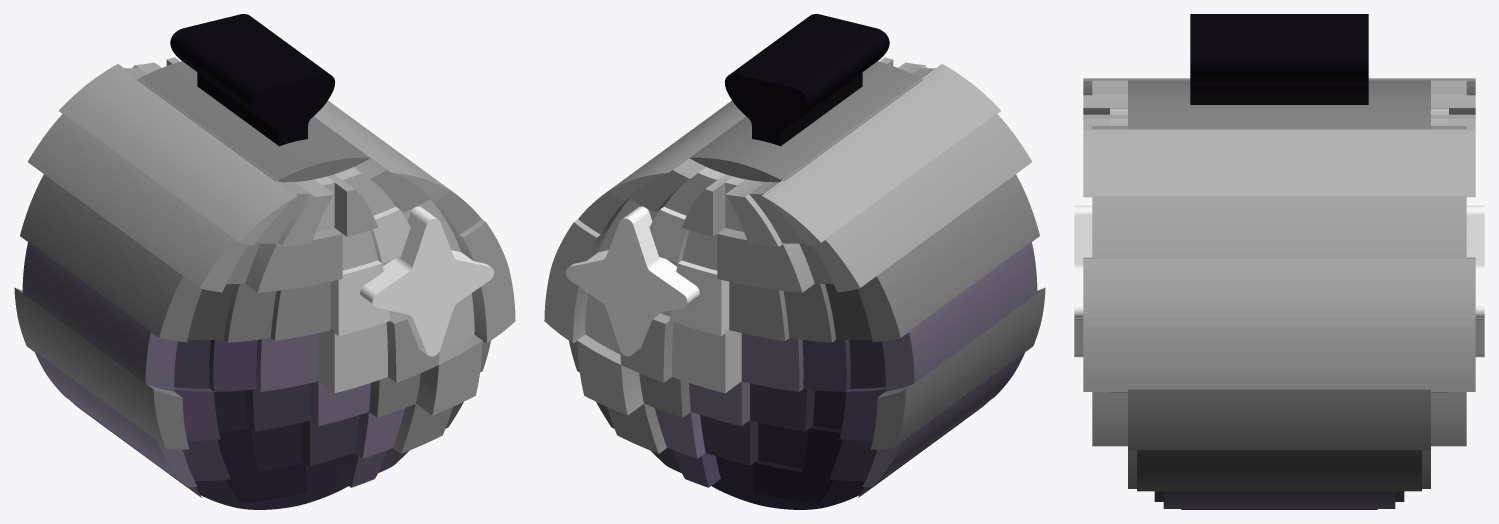
The model's file is U+1FAA9.obj.
3 views of the same model, side by side, from view 1: azimuth 30°, elevation 25°; view 2: azimuth 150°, elevation 25°; view 3: azimuth 270°, elevation 25° (orthographic). The views are drawn at different scales.
Visible parts, largest first — view 1: U+1FAA9_layer07_obj00, U+1FAA9_layer11_obj00, U+1FAA9_layer12_obj00, U+1FAA9_layer05_obj00, U+1FAA9_layer00_obj00, U+1FAA9_layer13_obj00, U+1FAA9_layer09_obj00, U+1FAA9_layer03_obj00, U+1FAA9_layer01_obj00, U+1FAA9_layer04_obj00, U+1FAA9_layer10_obj00, U+1FAA9_layer02_obj00 (+2 smaller); view 2: U+1FAA9_layer07_obj00, U+1FAA9_layer11_obj00, U+1FAA9_layer12_obj00, U+1FAA9_layer05_obj00, U+1FAA9_layer00_obj00, U+1FAA9_layer13_obj00, U+1FAA9_layer09_obj00, U+1FAA9_layer03_obj00, U+1FAA9_layer01_obj00, U+1FAA9_layer04_obj00, U+1FAA9_layer10_obj00, U+1FAA9_layer02_obj00 (+2 smaller); view 3: U+1FAA9_layer12_obj00, U+1FAA9_layer07_obj00, U+1FAA9_layer11_obj00, U+1FAA9_layer00_obj00, U+1FAA9_layer06_obj00, U+1FAA9_layer03_obj00, U+1FAA9_layer13_obj00, U+1FAA9_layer09_obj00.
Boxes of the visible parts, x1=… form: U+1FAA9_layer07_obj00: x1=14, y1=61, x2=490, y2=453; U+1FAA9_layer11_obj00: x1=28, y1=68, x2=482, y2=415; U+1FAA9_layer12_obj00: x1=59, y1=57, x2=515, y2=343; U+1FAA9_layer05_obj00: x1=22, y1=241, x2=405, y2=486; U+1FAA9_layer00_obj00: x1=170, y1=14, x2=335, y2=146; U+1FAA9_layer13_obj00: x1=360, y1=206, x2=494, y2=356; U+1FAA9_layer09_obj00: x1=314, y1=167, x2=474, y2=393; U+1FAA9_layer03_obj00: x1=174, y1=339, x2=408, y2=481; U+1FAA9_layer01_obj00: x1=195, y1=390, x2=348, y2=509; U+1FAA9_layer04_obj00: x1=71, y1=339, x2=386, y2=497; U+1FAA9_layer10_obj00: x1=330, y1=206, x2=410, y2=335; U+1FAA9_layer02_obj00: x1=217, y1=425, x2=305, y2=503; U+1FAA9_layer07_obj00: x1=569, y1=61, x2=1045, y2=453; U+1FAA9_layer11_obj00: x1=577, y1=68, x2=1031, y2=415; U+1FAA9_layer12_obj00: x1=544, y1=57, x2=1000, y2=343; U+1FAA9_layer05_obj00: x1=654, y1=241, x2=1037, y2=486; U+1FAA9_layer00_obj00: x1=724, y1=14, x2=889, y2=146; U+1FAA9_layer13_obj00: x1=565, y1=206, x2=699, y2=356; U+1FAA9_layer09_obj00: x1=585, y1=167, x2=745, y2=393; U+1FAA9_layer03_obj00: x1=651, y1=339, x2=885, y2=481; U+1FAA9_layer01_obj00: x1=711, y1=390, x2=864, y2=509; U+1FAA9_layer04_obj00: x1=673, y1=339, x2=988, y2=497; U+1FAA9_layer10_obj00: x1=649, y1=206, x2=729, y2=335; U+1FAA9_layer02_obj00: x1=754, y1=425, x2=842, y2=503; U+1FAA9_layer12_obj00: x1=1083, y1=78, x2=1475, y2=391; U+1FAA9_layer07_obj00: x1=1128, y1=80, x2=1430, y2=488; U+1FAA9_layer11_obj00: x1=1092, y1=80, x2=1466, y2=446; U+1FAA9_layer00_obj00: x1=1190, y1=14, x2=1368, y2=104; U+1FAA9_layer06_obj00: x1=1137, y1=450, x2=1421, y2=491; U+1FAA9_layer03_obj00: x1=1163, y1=491, x2=1395, y2=508; U+1FAA9_layer13_obj00: x1=1074, y1=205, x2=1484, y2=357; U+1FAA9_layer09_obj00: x1=1110, y1=108, x2=1448, y2=392.
Bounding box in the file's own units: 0.4809 × 0.5677 × 0.46.
